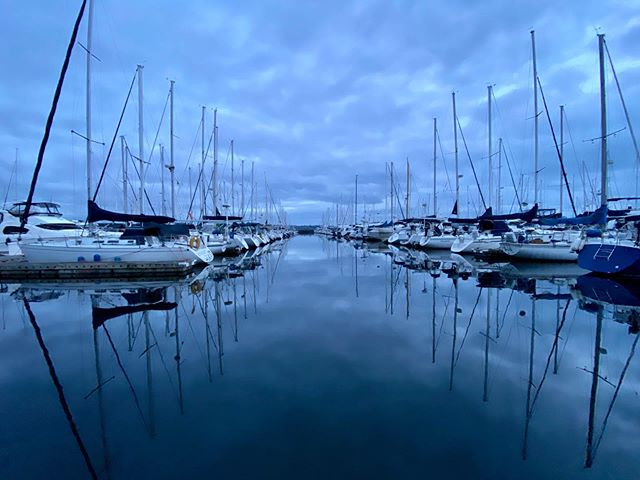boat: (1, 198, 213, 284), (497, 218, 587, 264), (577, 214, 640, 263)
river: (8, 246, 640, 480)
sky: (1, 1, 640, 193)
